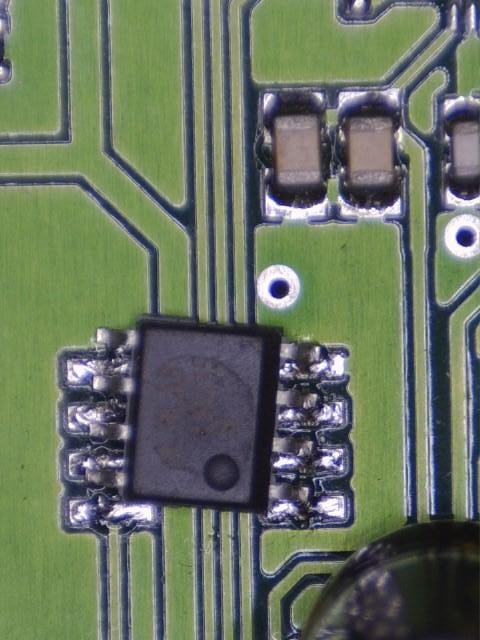pcb_defect: (62, 313, 349, 528)
